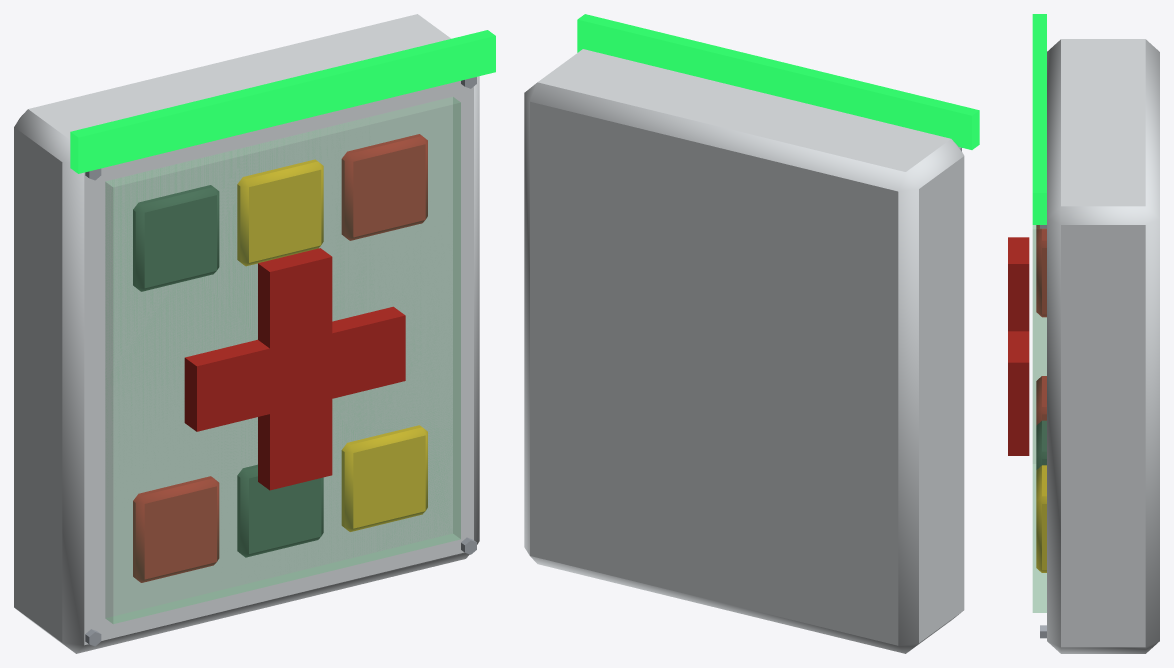
Rendered from medcabinet_wall_first_aid_station.glb.
The picture shows the model from 3 angles, left to right: view 1: azimuth 30°, elevation 25°; view 2: azimuth 150°, elevation 25°; view 3: azimuth 270°, elevation 25°; orthographic projection. The views are drawn at different scales.
Parts seen in each view (by area): view 1: medcabinet_wall_first_aid_station; view 2: medcabinet_wall_first_aid_station; view 3: medcabinet_wall_first_aid_station.
Part boxes in pixels (x1,y1,x2,y2): medcabinet_wall_first_aid_station: (14,14,495,653); medcabinet_wall_first_aid_station: (524,14,979,653); medcabinet_wall_first_aid_station: (1008,14,1159,653).
Size of the model in its own units: 0.6 by 0.73 by 0.215.
